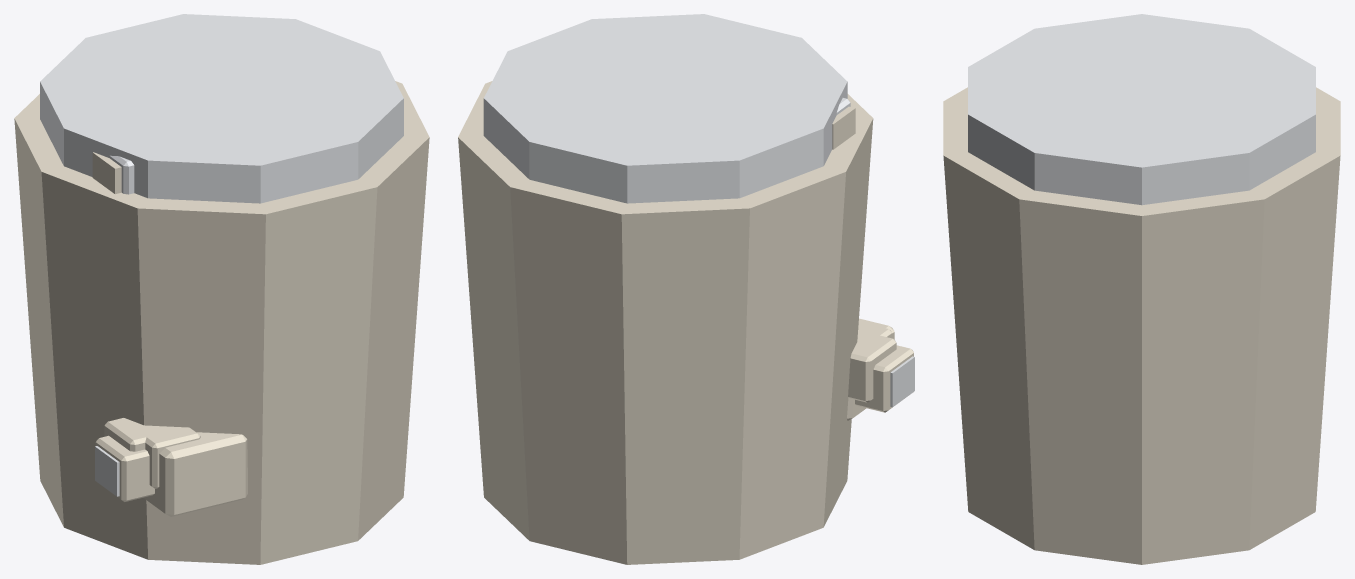
File: b17_stitched_baseball.glb
3 views of the same model, side by side, from view 1: azimuth 30°, elevation 25°; view 2: azimuth 150°, elevation 25°; view 3: azimuth 270°, elevation 25° (orthographic).
Parts seen in each view (by area): view 1: b17_stitched_baseball; view 2: b17_stitched_baseball; view 3: b17_stitched_baseball.
Part boxes in pixels (left/top/right/bottom): b17_stitched_baseball: left=14, top=14, right=429, bottom=564; b17_stitched_baseball: left=458, top=14, right=914, bottom=564; b17_stitched_baseball: left=943, top=14, right=1340, bottom=564.
Size of the model in its own units: 0.07 by 0.074 by 0.067.
